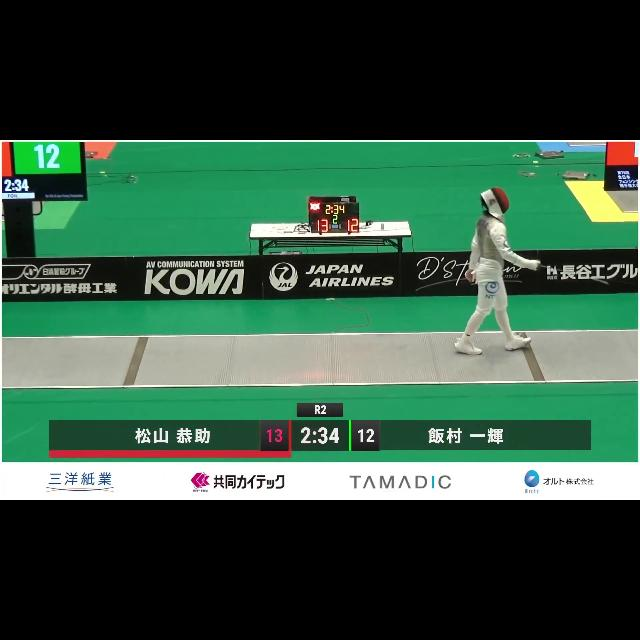blade: (538, 258, 612, 288)
